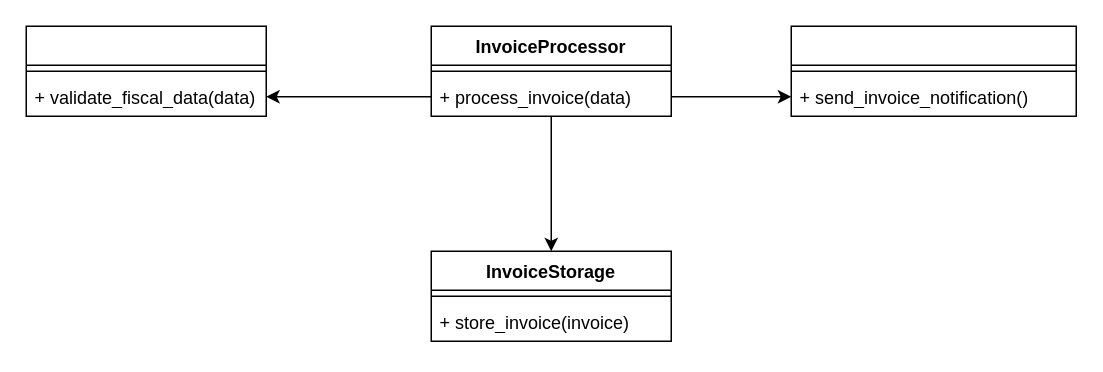
Image size: 1103x372. Some labels were removed from this diagram. The shapes that lost their labels are listed below. From the top down, each one's box as (x1, y1, x2, y2) in pixels, then its label:
(25, 25, 266, 116): FiscalValidator
(790, 25, 1076, 116): EmailNotifier
